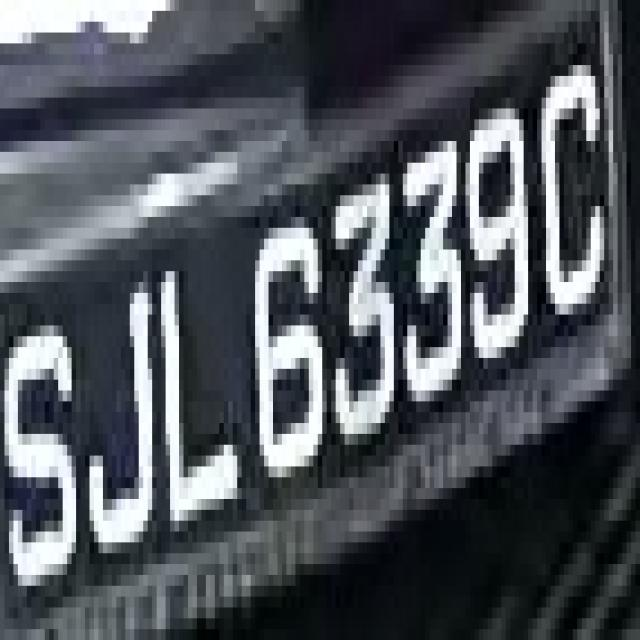3: (313, 173, 403, 444), (394, 130, 479, 402)
6: (224, 174, 322, 488)
9: (448, 119, 537, 369)
C: (519, 54, 613, 347)
J: (72, 250, 152, 564)
L: (148, 228, 242, 542)
S: (14, 293, 80, 629)
